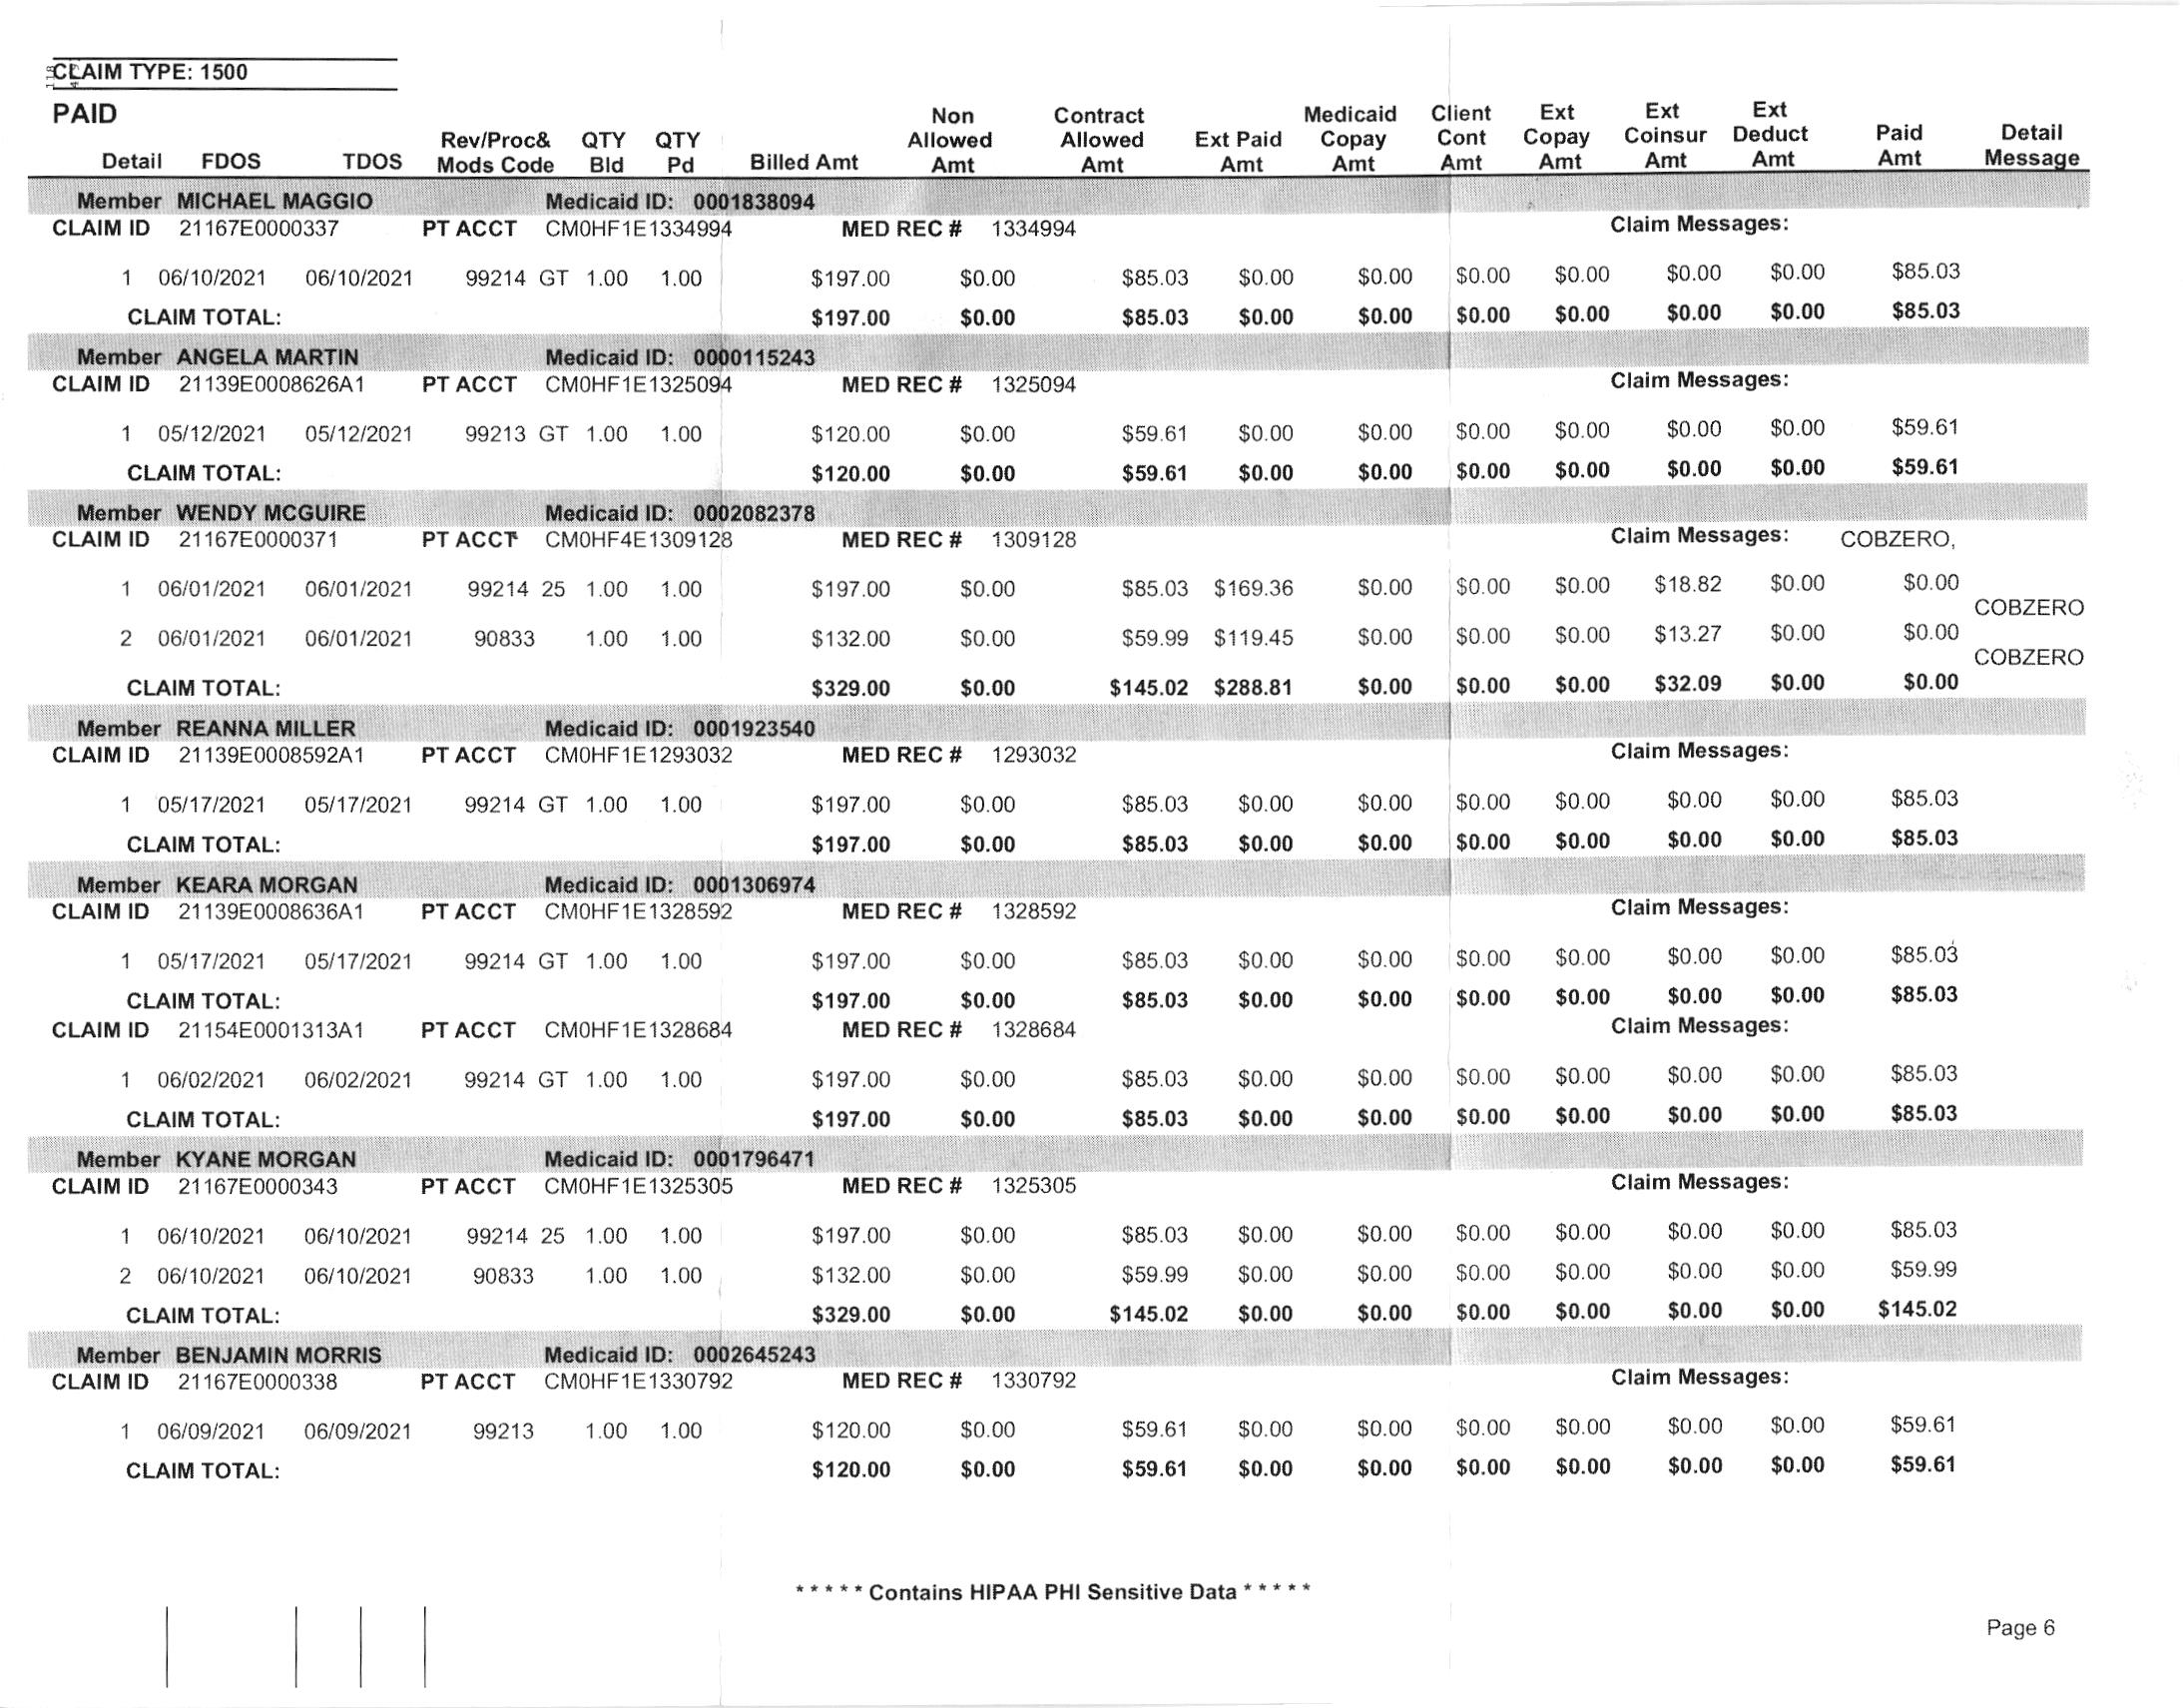data: (16, 96, 2117, 1487)
